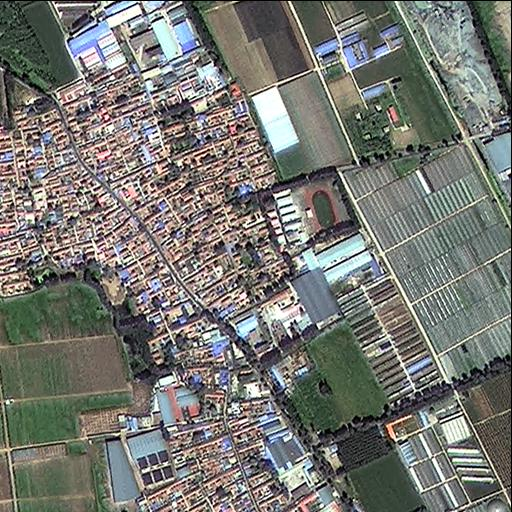school: (270, 164, 362, 241)
